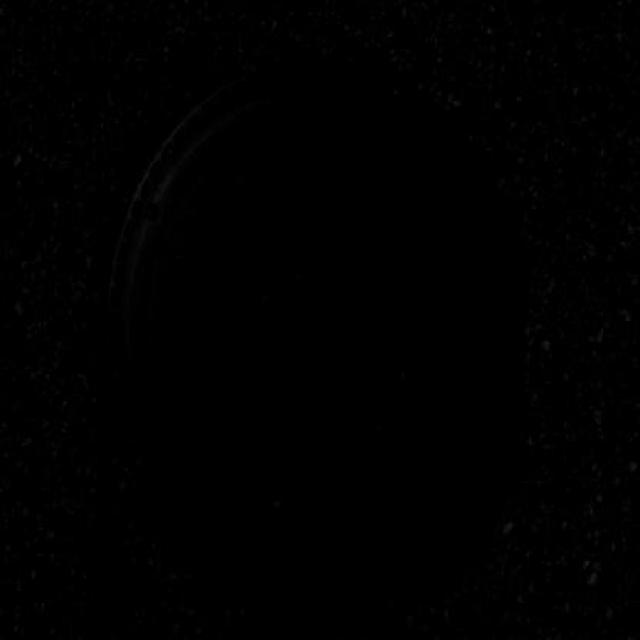Manhole: (103, 61, 525, 576)
